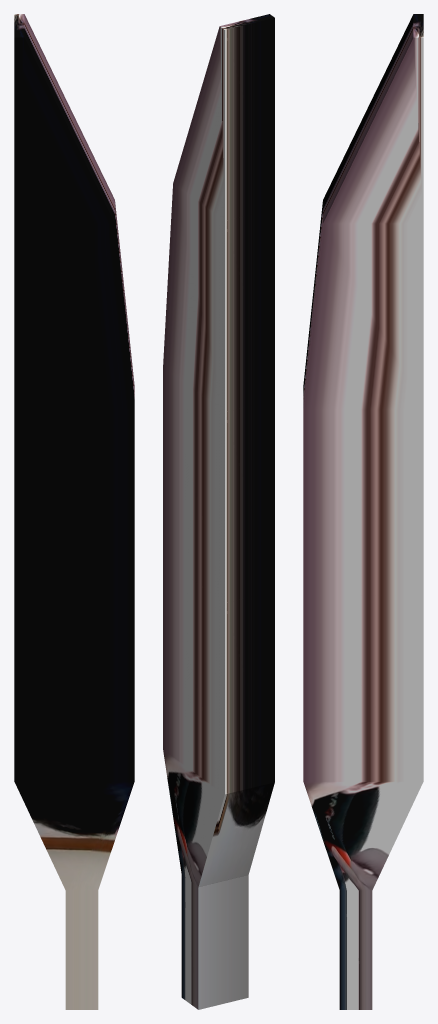
Rendered from dammySword.obj.
3 renders of one model, left to right at view 1: azimuth 90°, elevation 25°; view 2: azimuth 210°, elevation 25°; view 3: azimuth 270°, elevation 25°, orthographic. The views are drawn at different scales.
Visible parts, largest first — view 1: Cube.001; view 2: Cube.001; view 3: Cube.001.
Boxes of the visible parts, <box> form: Cube.001: <box>14,14,134,1009</box>; Cube.001: <box>163,14,274,1009</box>; Cube.001: <box>303,14,423,1009</box>.
Size of the model in its own units: 0.9364 by 17.84 by 2.
1 material, 1 textured.
